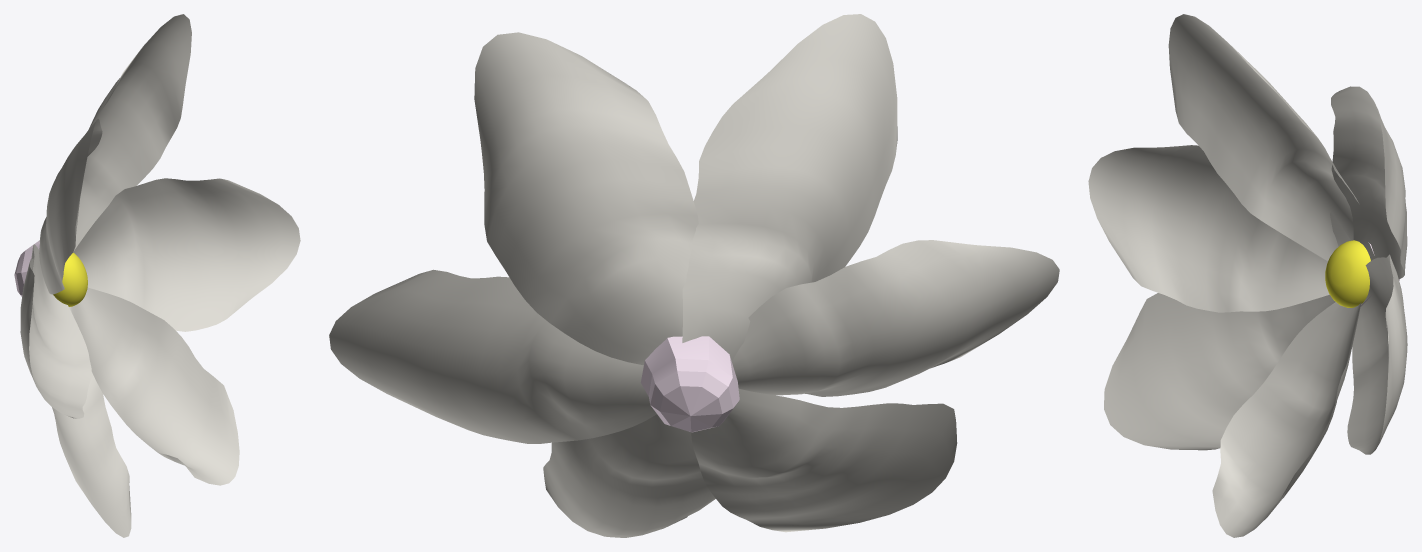
Rendered from anemone.glb.
The picture shows the model from 3 angles, left to right: view 1: azimuth 30°, elevation 25°; view 2: azimuth 150°, elevation 25°; view 3: azimuth 270°, elevation 25°; orthographic projection. The views are drawn at different scales.
Visible parts, largest first — view 1: Object_5, Object_2, Object_3; view 2: Object_5, Object_3; view 3: Object_5, Object_2.
Part boxes in pixels (bbox=[...]): Object_5: bbox=[20, 14, 300, 537]; Object_2: bbox=[53, 252, 87, 306]; Object_3: bbox=[14, 240, 39, 296]; Object_5: bbox=[329, 14, 1059, 537]; Object_3: bbox=[640, 336, 739, 432]; Object_5: bbox=[1088, 14, 1407, 537]; Object_2: bbox=[1325, 240, 1370, 307].
Size of the model in its own units: 0.3214 by 0.3189 by 0.2058.
